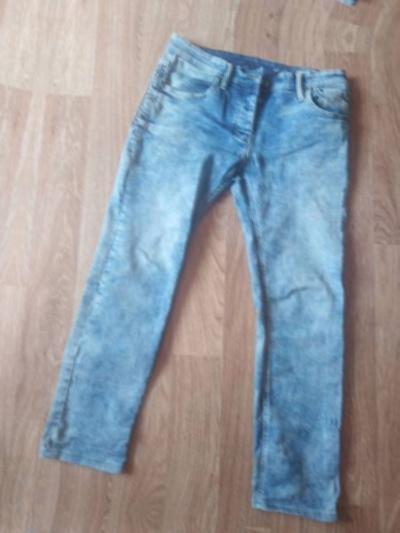Pants: (20, 20, 400, 527), (0, 509, 346, 533), (96, 0, 400, 27), (0, 0, 13, 464)
